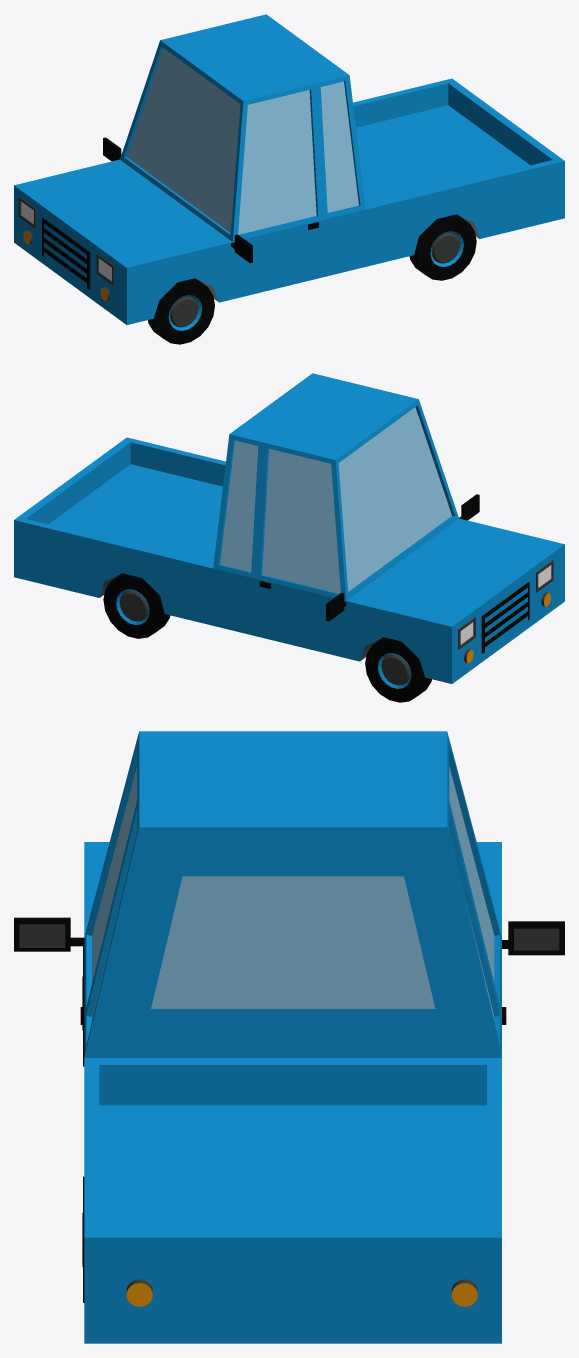
File: car5A.FBX
The picture shows the model from 3 angles, top to bottom: view 1: azimuth 30°, elevation 25°; view 2: azimuth 150°, elevation 25°; view 3: azimuth 270°, elevation 25°; orthographic projection. The views are drawn at different scales.
Visible parts, largest first — view 1: car5A; view 2: car5A; view 3: car5A.
Boxes of the visible parts, <box> form: car5A: <box>14,14,564,344</box>; car5A: <box>14,373,564,702</box>; car5A: <box>14,731,564,1343</box>.
Bounding box in the file's own units: 11.38 × 5.22 × 6.6.
